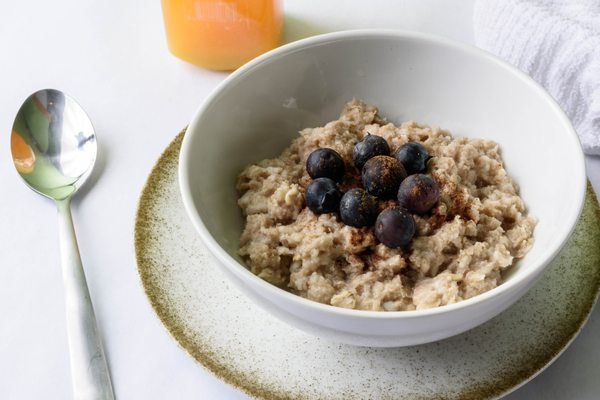burger: (10, 87, 115, 395)
salad: (10, 87, 115, 396)
sushi: (177, 25, 595, 348)
taco: (159, 0, 286, 71)
